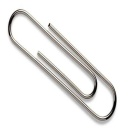Metal: (4, 3, 128, 127)
